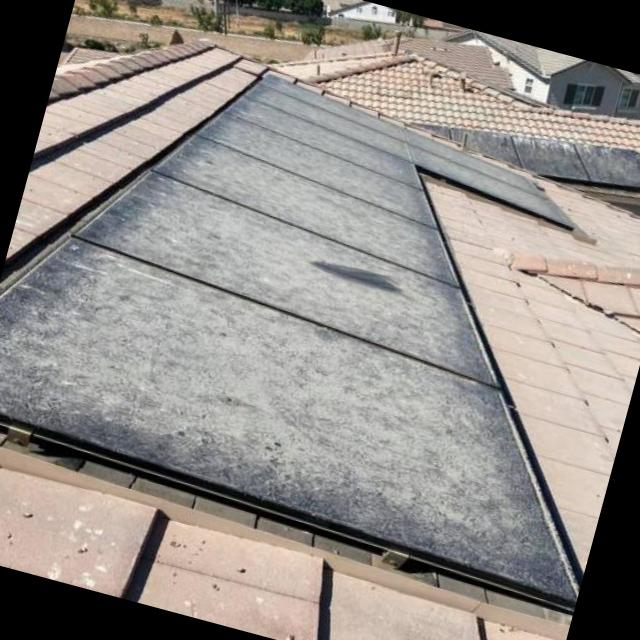faulty: (0, 235, 563, 592), (80, 186, 494, 376), (161, 129, 458, 293), (198, 117, 434, 220), (226, 96, 419, 191), (244, 76, 409, 161), (413, 137, 567, 225), (583, 143, 640, 189), (515, 138, 579, 175)
